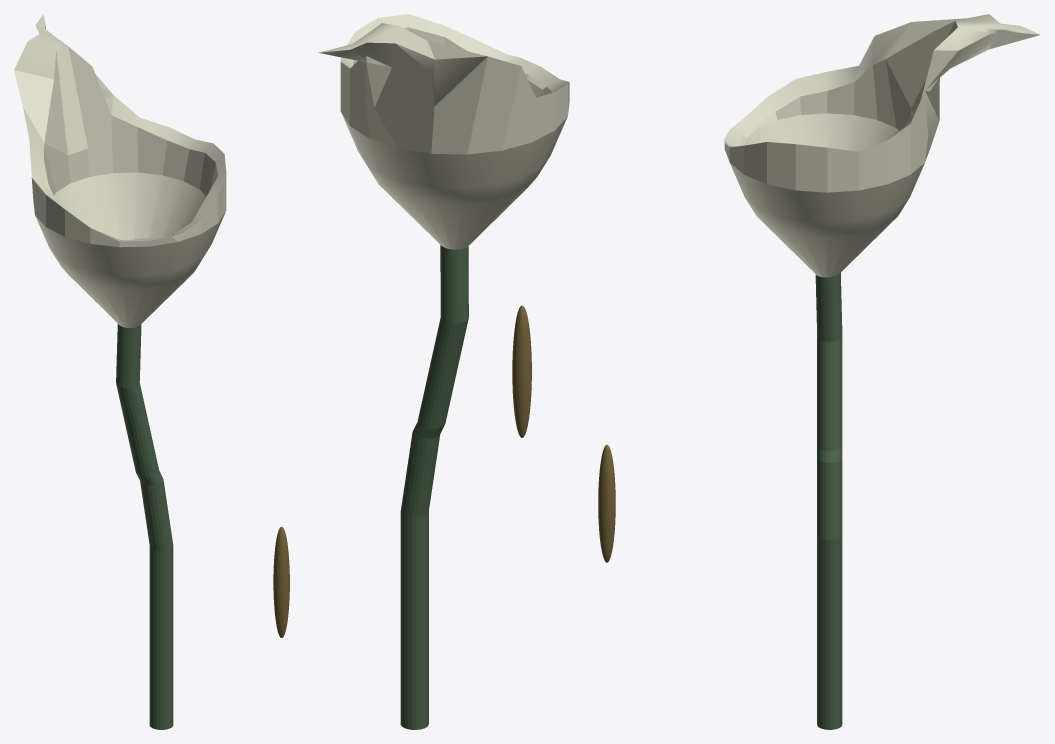
The model's file is calla_lily.obj.
3 views of the same model, side by side, from view 1: azimuth 30°, elevation 25°; view 2: azimuth 150°, elevation 25°; view 3: azimuth 270°, elevation 25° (orthographic). The views are drawn at different scales.
Parts seen in each view (by area): view 1: callaLily callaLilyPetal callaLily, callaLilyStem callaLily, callaLily callaLily callaLilyCentre; view 2: callaLily callaLilyPetal callaLily, callaLilyStem callaLily, callaLily callaLily callaLilyCentre; view 3: callaLily callaLilyPetal callaLily, callaLilyStem callaLily, callaLily callaLily callaLilyCentre.
Part boxes in pixels (x1,y1,x2,y2): callaLily callaLilyPetal callaLily: [14, 14, 226, 327]; callaLilyStem callaLily: [116, 324, 173, 729]; callaLily callaLily callaLilyCentre: [273, 526, 289, 637]; callaLily callaLilyPetal callaLily: [318, 14, 569, 249]; callaLilyStem callaLily: [400, 245, 468, 729]; callaLily callaLily callaLilyCentre: [512, 305, 531, 437]; callaLily callaLilyPetal callaLily: [724, 14, 1040, 277]; callaLilyStem callaLily: [815, 273, 842, 729]; callaLily callaLily callaLilyCentre: [598, 445, 615, 562].
Size of the model in its own units: 1.25 by 4.58 by 2.7.
